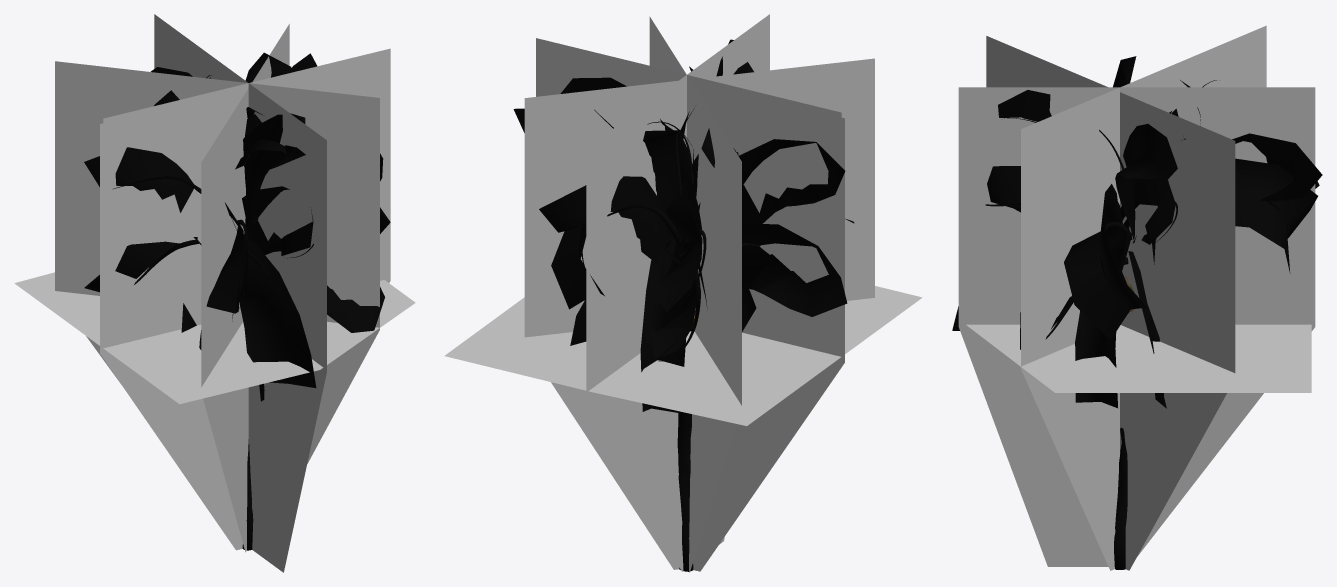
File: PalmTree.fbx
3 renders of one model, left to right at view 1: azimuth 30°, elevation 25°; view 2: azimuth 150°, elevation 25°; view 3: azimuth 270°, elevation 25°, orthographic. The views are drawn at different scales.
Parts seen in each view (by area): view 1: Billboard, LOD0; view 2: Billboard, LOD0; view 3: Billboard, LOD0.
Part boxes in pixels (x1,y1,x2,y2): Billboard: (14, 14, 415, 572); LOD0: (84, 52, 390, 550); Billboard: (444, 14, 922, 572); LOD0: (513, 39, 854, 571); Billboard: (958, 25, 1315, 570); LOD0: (952, 56, 1322, 569).
Size of the model in its own units: 23.35 by 33.86 by 23.52.
